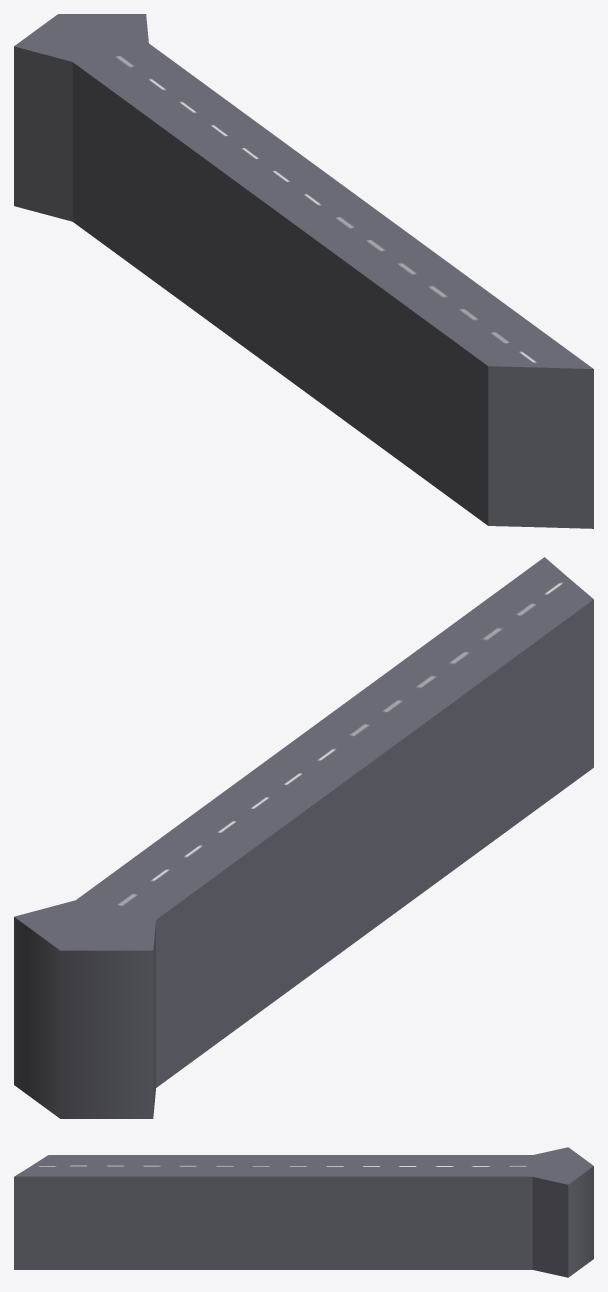
File: road_3.gltf
3 views of the same model, one above another, from view 1: azimuth 30°, elevation 25°; view 2: azimuth 150°, elevation 25°; view 3: azimuth 270°, elevation 25° (orthographic). The views are drawn at different scales.
Visible parts, largest first — view 1: road; view 2: road; view 3: road.
Boxes of the visible parts, bbox=[...] form: road: bbox=[14, 14, 593, 528]; road: bbox=[14, 557, 593, 1118]; road: bbox=[14, 1147, 593, 1277].
Size of the model in its own units: 2.11 by 2.44 by 13.77.
1 material, 1 textured.
